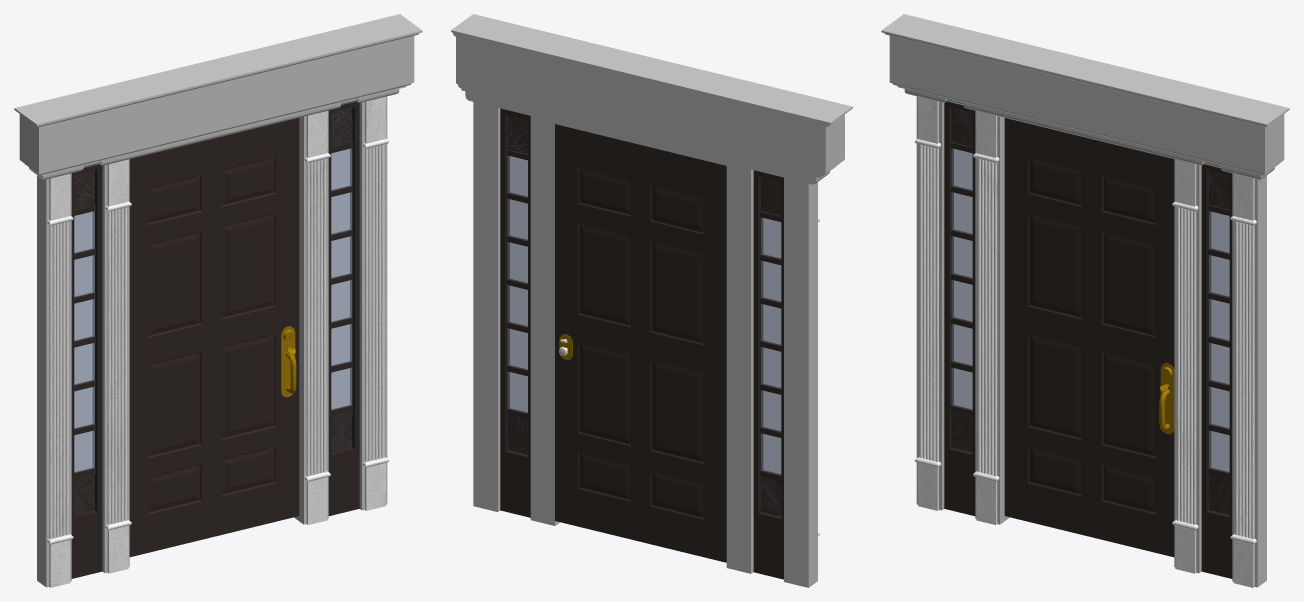
3 views of the same model, side by side, from view 1: azimuth 30°, elevation 25°; view 2: azimuth 150°, elevation 25°; view 3: azimuth 330°, elevation 25° (orthographic).
Parts seen in each view (by area): view 1: group_4 (×20), instance_31, instance_13, instance_12 (×5), instance_6 (×5), instance_8 (×5), instance_10 (×5), instance_27 (×8), instance_26 (×8), instance_23 (×8), instance_28 (×8), instance_29 (×4) (+4 smaller); view 2: instance_5 (×20), instance_31, instance_13, group_4 (×20); view 3: group_4 (×20), instance_13, instance_31, instance_8 (×5), instance_10 (×5), instance_12 (×5), instance_6 (×5), instance_27 (×8), instance_26 (×8), instance_23 (×8), instance_28 (×8), instance_29 (×4) (+4 smaller).
Boxes of the visible parts, bbox=[...] form: group_4 (×20): bbox=[71, 101, 359, 578]; instance_31: bbox=[14, 61, 229, 587]; instance_13: bbox=[207, 14, 422, 524]; instance_12 (×5): bbox=[212, 118, 299, 335]; instance_6 (×5): bbox=[212, 314, 299, 537]; instance_8 (×5): bbox=[129, 336, 211, 557]; instance_10 (×5): bbox=[129, 139, 211, 355]; instance_27 (×8): bbox=[62, 147, 371, 535]; instance_26 (×8): bbox=[59, 146, 374, 536]; instance_23 (×8): bbox=[49, 144, 384, 538]; instance_28 (×8): bbox=[65, 148, 368, 534]; instance_29 (×4): bbox=[47, 457, 389, 587]; instance_5 (×20): bbox=[555, 124, 726, 562]; instance_31: bbox=[641, 60, 852, 587]; instance_13: bbox=[451, 14, 662, 525]; group_4 (×20): bbox=[500, 108, 783, 579]; group_4 (×20): bbox=[944, 101, 1232, 578]; instance_13: bbox=[1074, 61, 1289, 587]; instance_31: bbox=[881, 14, 1096, 524]; instance_8 (×5): bbox=[1004, 314, 1091, 537]; instance_10 (×5): bbox=[1004, 118, 1091, 335]; instance_12 (×5): bbox=[1092, 139, 1174, 355]; instance_6 (×5): bbox=[1092, 336, 1174, 557]; instance_27 (×8): bbox=[932, 147, 1241, 535]; instance_26 (×8): bbox=[929, 146, 1244, 536]; instance_23 (×8): bbox=[919, 144, 1254, 538]; instance_28 (×8): bbox=[935, 148, 1238, 534]; instance_29 (×4): bbox=[914, 457, 1256, 587].
Size of the model in its own units: 91.43 by 10.8 by 108.
